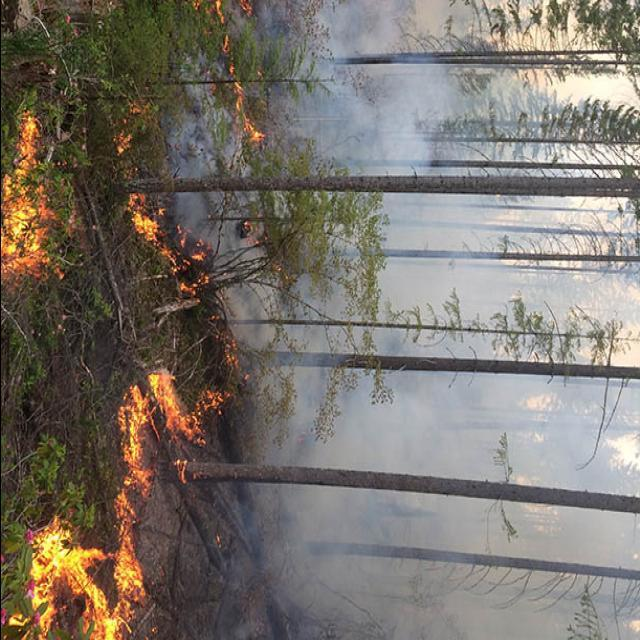Fire: (24, 518, 153, 640), (122, 370, 240, 485), (0, 108, 80, 276)
